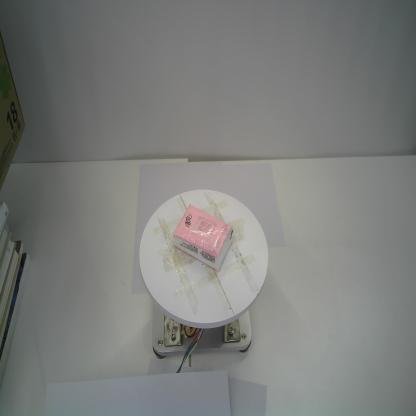Tissue: (172, 204, 234, 271)
